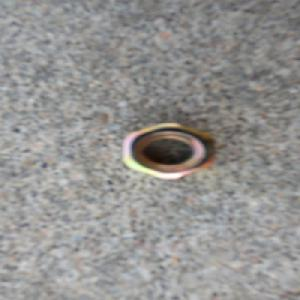Nut: (118, 121, 216, 181)
